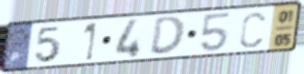1: (81, 21, 99, 62)
4: (113, 17, 143, 60)
5: (199, 11, 233, 54), (32, 25, 65, 65)
C: (238, 10, 267, 50)
D: (148, 14, 187, 57)
